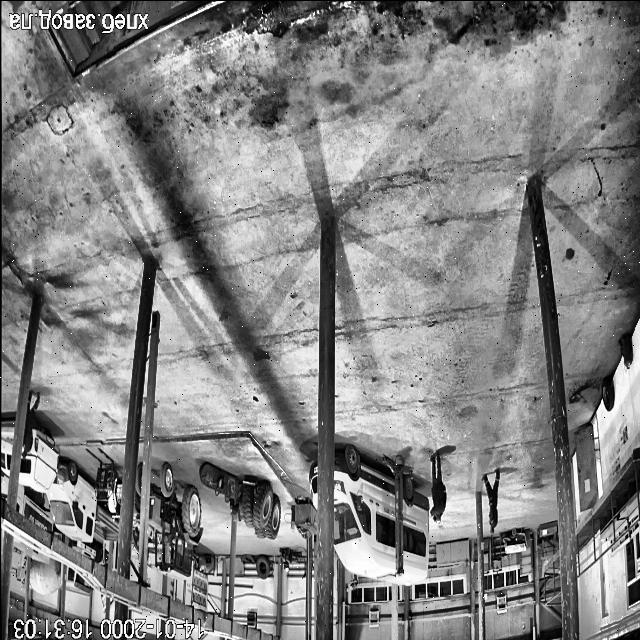class4: (21, 391, 40, 459), (482, 468, 499, 534), (430, 452, 445, 523)
class6: (148, 462, 202, 579), (136, 463, 142, 500)
class7: (46, 461, 117, 541), (16, 484, 52, 532), (14, 537, 48, 562), (66, 567, 92, 595), (76, 540, 104, 564), (0, 477, 8, 500)
mechanic: (19, 429, 59, 492), (0, 422, 14, 475), (19, 436, 22, 439)
tractor: (619, 334, 632, 368)
truck: (383, 455, 412, 578), (380, 578, 388, 580)
